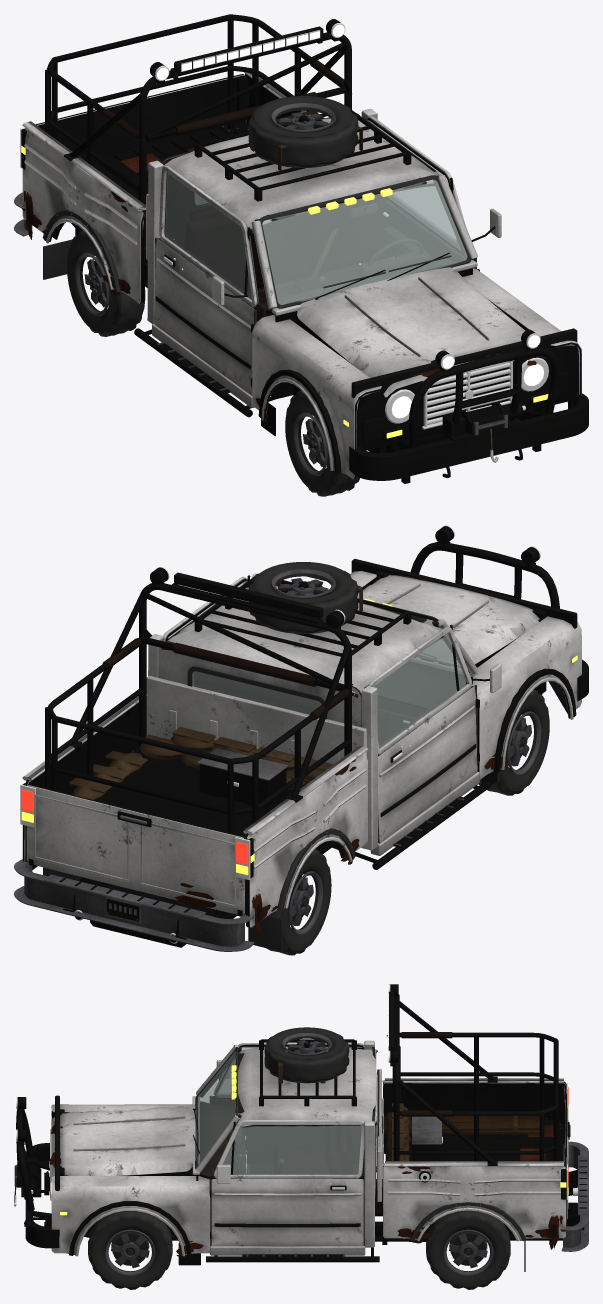
Rendered from truck_t2.glb.
The picture shows the model from 3 angles, top to bottom: view 1: azimuth 30°, elevation 25°; view 2: azimuth 150°, elevation 25°; view 3: azimuth 270°, elevation 25°; orthographic projection. The views are drawn at different scales.
Parts seen in each view (by area): view 1: body, panel_door_R, panel_hood, panel_fender_R, panel_bumper_F, panel_tailgate, wheel_RR, panel_door_L, wheel_FR, panel_fender_L; view 2: body, panel_tailgate, panel_door_R, panel_fender_R, panel_bumper_R, panel_hood, wheel_RR, wheel_FR; view 3: body, panel_door_L, panel_fender_L, panel_hood, wheel_RL, wheel_FL, panel_bumper_F, panel_bumper_R, panel_fender_R, panel_door_R, panel_tailgate.
Boxes of the visible parts, x1,y1,x2,y2 form: body: (20, 14, 577, 483); panel_door_R: (154, 165, 260, 395); panel_hood: (297, 267, 546, 397); panel_fender_R: (252, 315, 381, 479); panel_bumper_F: (349, 393, 588, 480); panel_tailgate: (36, 74, 246, 161); wheel_RR: (67, 230, 145, 336); panel_door_L: (366, 115, 501, 271); wheel_FR: (285, 390, 359, 496); panel_fender_L: (463, 268, 581, 408); body: (20, 525, 577, 951); panel_tailgate: (26, 784, 245, 916); panel_door_R: (366, 625, 501, 843); panel_fender_R: (471, 616, 581, 785); panel_bumper_R: (14, 859, 254, 951); panel_hood: (357, 574, 539, 664); wheel_RR: (266, 849, 331, 955); wheel_FR: (478, 689, 549, 795); body: (15, 984, 584, 1271); panel_door_L: (209, 1120, 364, 1246); panel_fender_L: (51, 1176, 210, 1265); panel_hood: (46, 1105, 195, 1182); wheel_RL: (426, 1210, 510, 1289); wheel_FL: (88, 1211, 172, 1289); panel_bumper_F: (14, 1143, 59, 1248); panel_bumper_R: (561, 1141, 588, 1251); panel_fender_R: (51, 1104, 192, 1118); panel_door_R: (212, 1043, 365, 1163); panel_tailgate: (544, 1085, 570, 1226).
Size of the model in its own units: 2.49 by 2.55 by 5.7.
16 materials, 9 textured.
